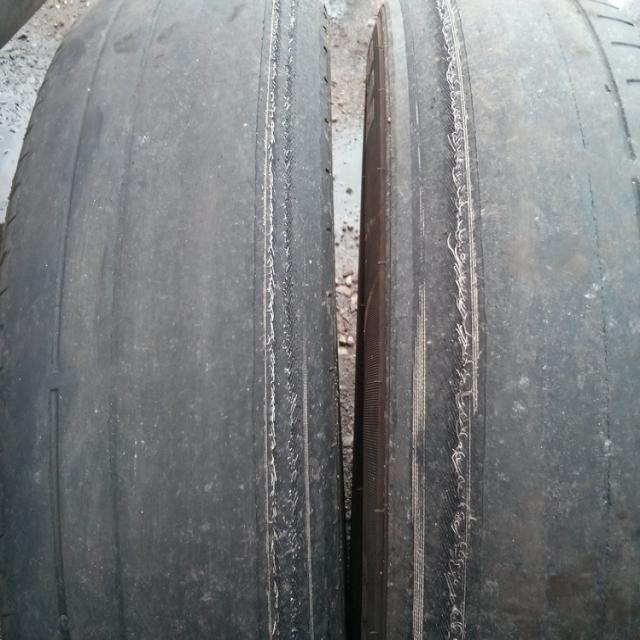Flat spots: (50, 6, 323, 638), (373, 0, 627, 640)
